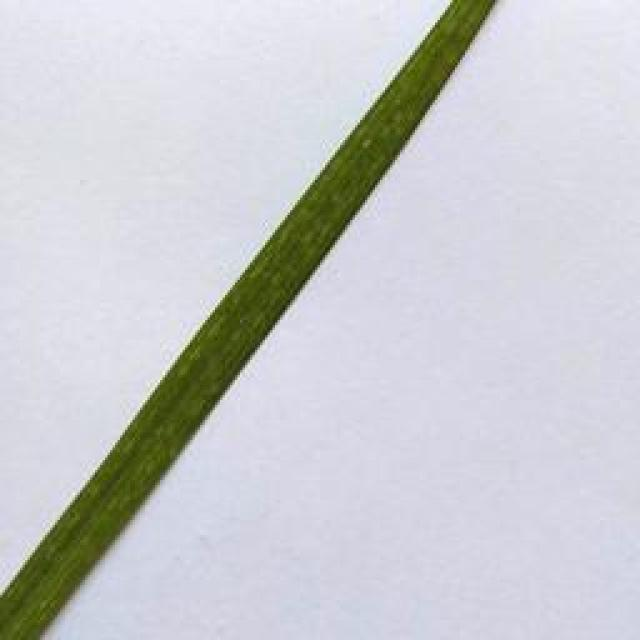Healthy-Plant: (3, 0, 493, 640)
